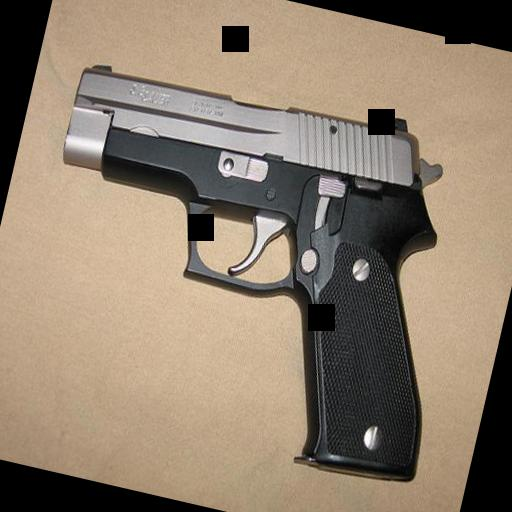Handgun: (5, 42, 493, 486)
